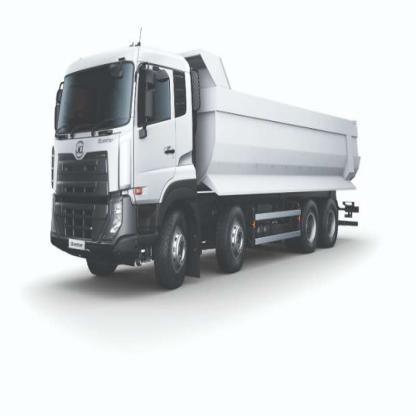dump_truck: (45, 40, 366, 289)
